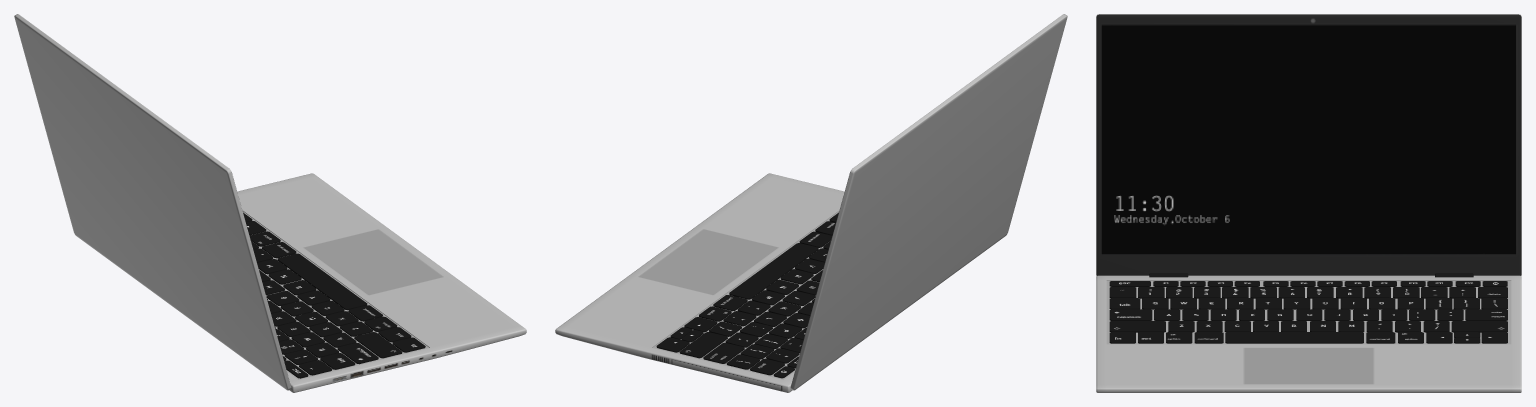
File: laptop.FBX
3 views of the same model, side by side, from view 1: azimuth 30°, elevation 25°; view 2: azimuth 150°, elevation 25°; view 3: azimuth 270°, elevation 25° (orthographic).
Visible parts, largest first — view 1: laptop; view 2: laptop; view 3: laptop.
Boxes of the visible parts, left/top/right/bottom form: laptop: left=14, top=14, right=526, bottom=392; laptop: left=555, top=14, right=1067, bottom=392; laptop: left=1096, top=14, right=1521, bottom=392.
Bounding box in the file's own units: 13.71 × 16.98 × 10.46.
Materials: 1 (1 with a texture image).
